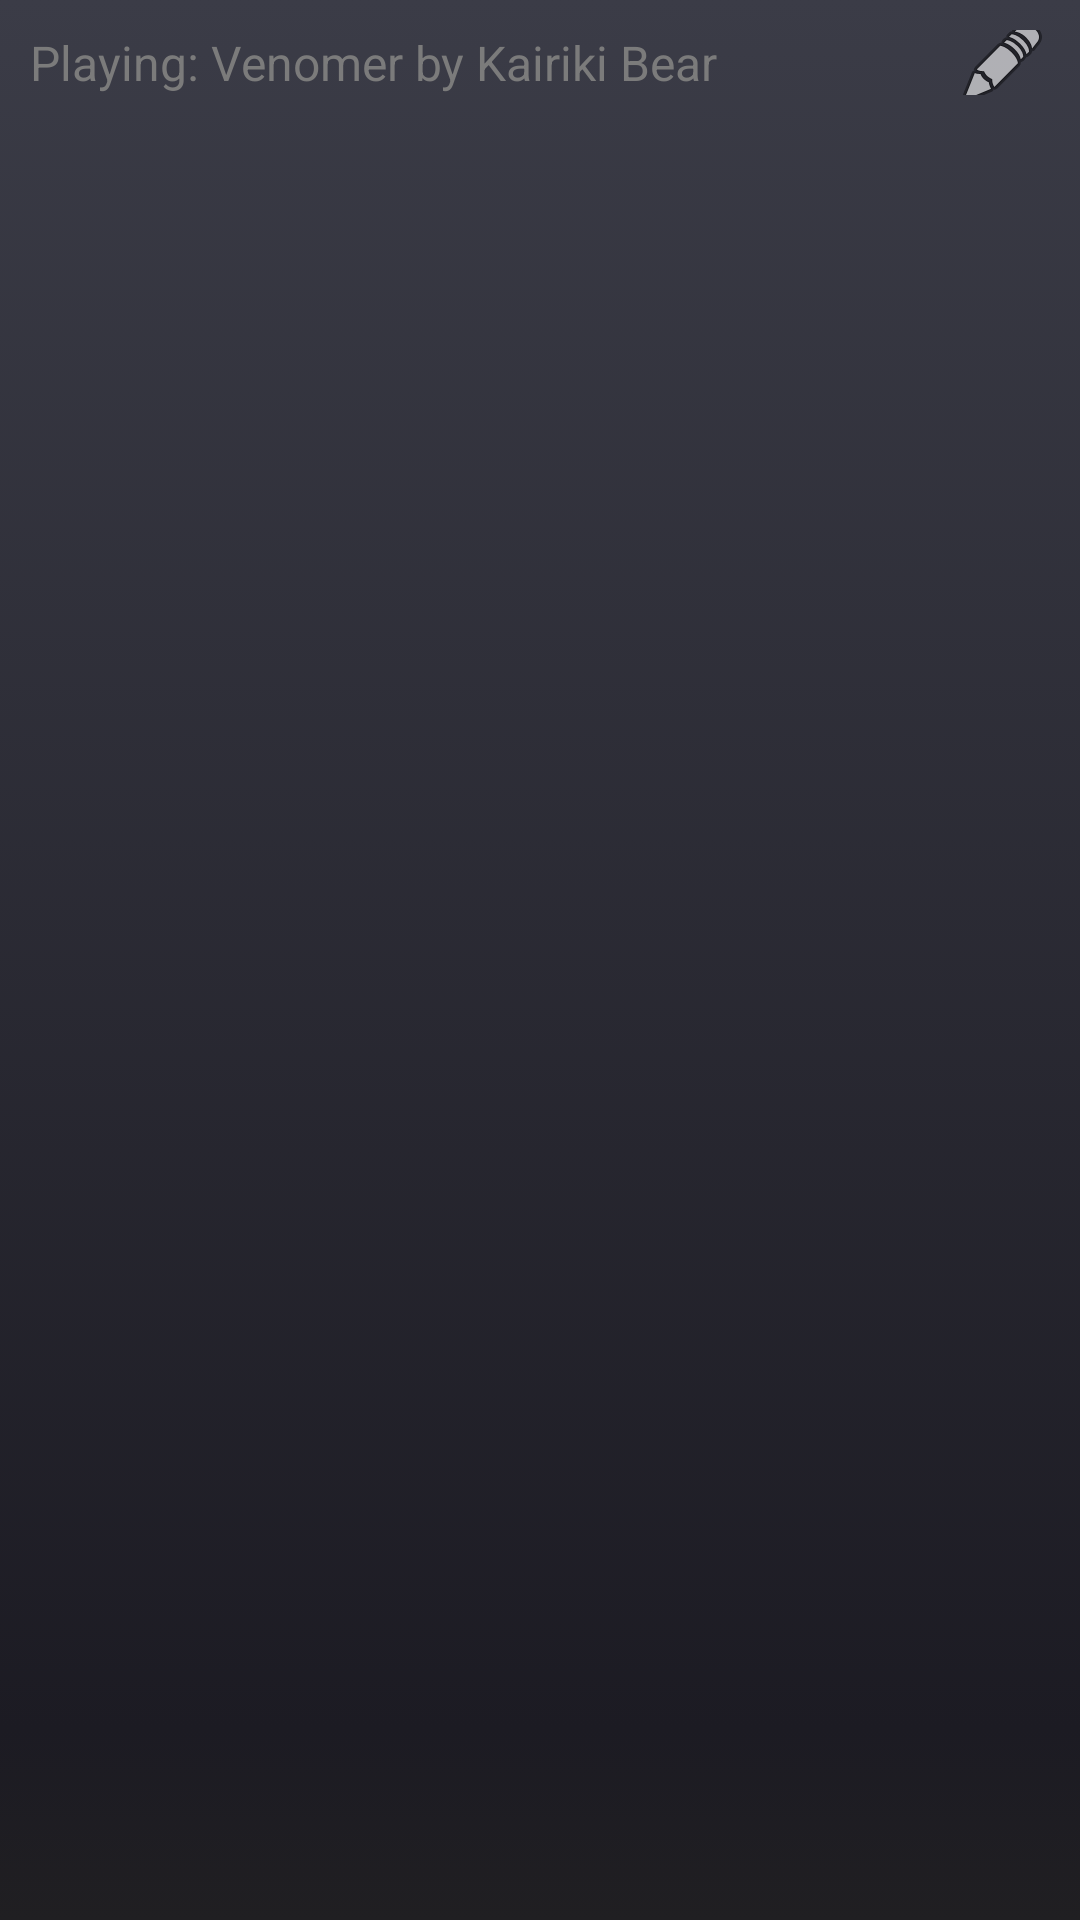

Named icons in this screenshot (1080 x 1920) and their bounding boxes, (x1, y1, x2, y2):
edit: (963, 30, 1042, 95)
